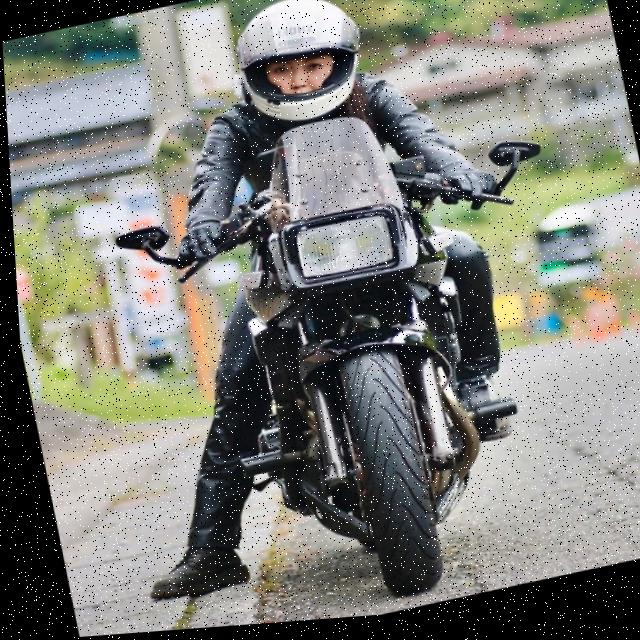helmet: (213, 0, 380, 141)
